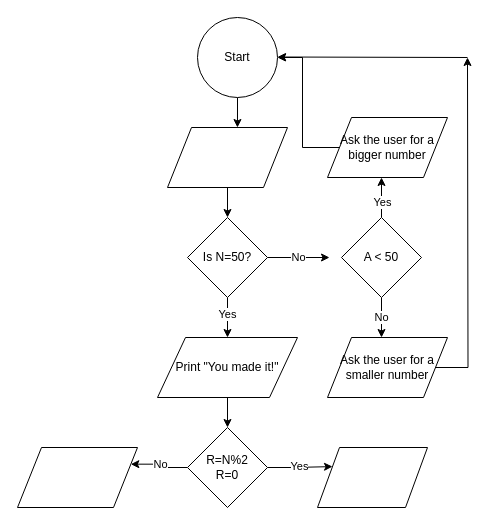
Some shapes in this 494 by 525 pixel diagram are drawn without their labels. Each missing label, with the box of its shape:
Print "You had chosen an even number!": (316, 446, 428, 508)
Print "You had chosen an odd number!": (16, 446, 138, 508)
Variable N Number 50: (166, 126, 288, 188)
